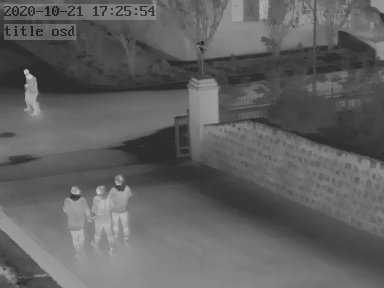person: (67, 185, 88, 254), (110, 174, 131, 243), (91, 184, 113, 248), (22, 67, 41, 114)
